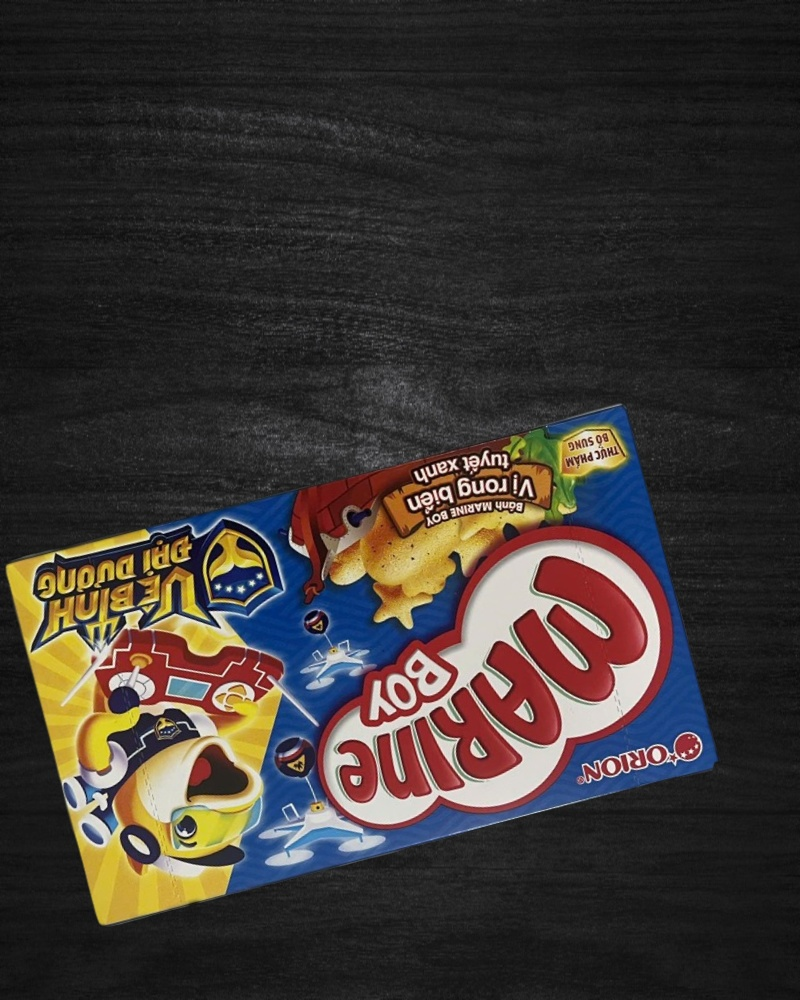Marine: (1, 397, 723, 933)
